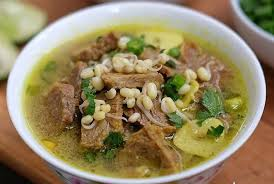soto: (10, 11, 264, 178)
